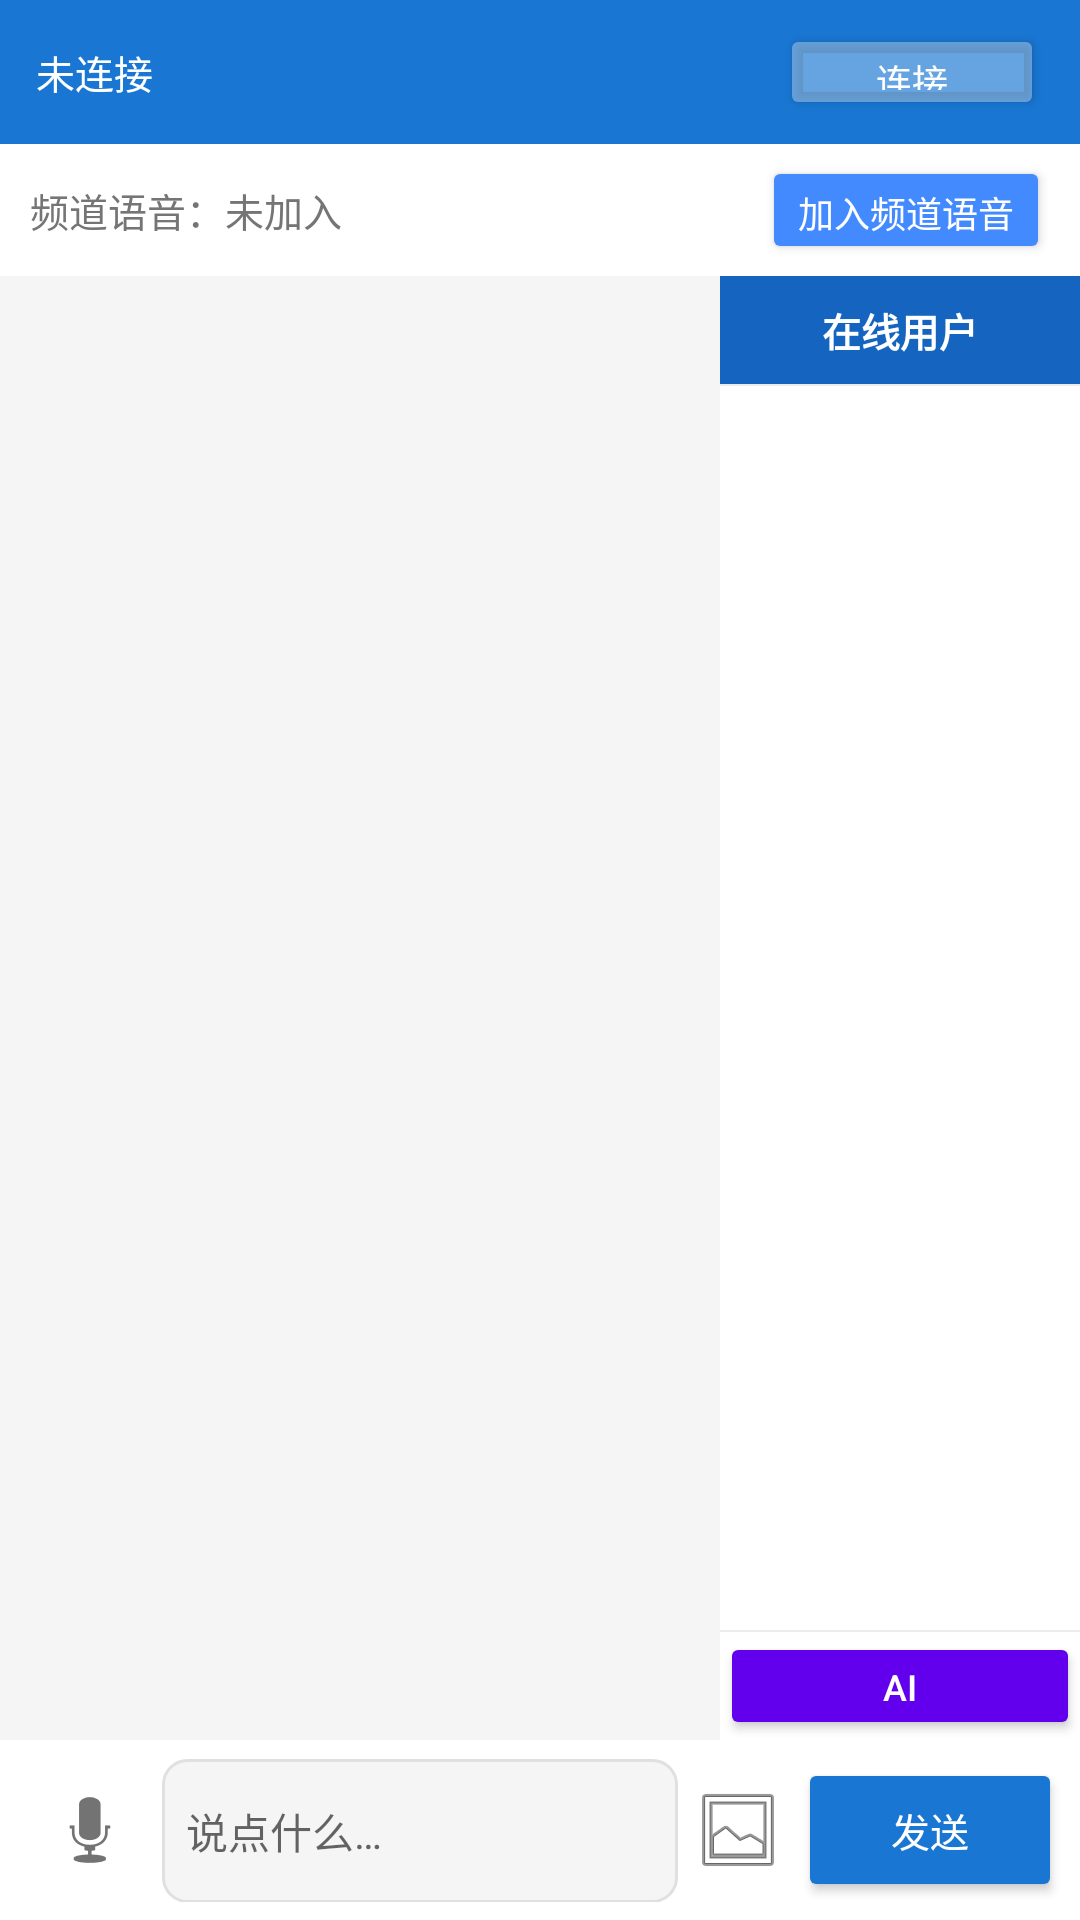

Named icons in this screenshot (1080w x 1920h) and their bounding boxes, (x1, y1, x2, y2):
图片: (702, 1794, 774, 1866)
语音: (69, 1797, 111, 1863)
